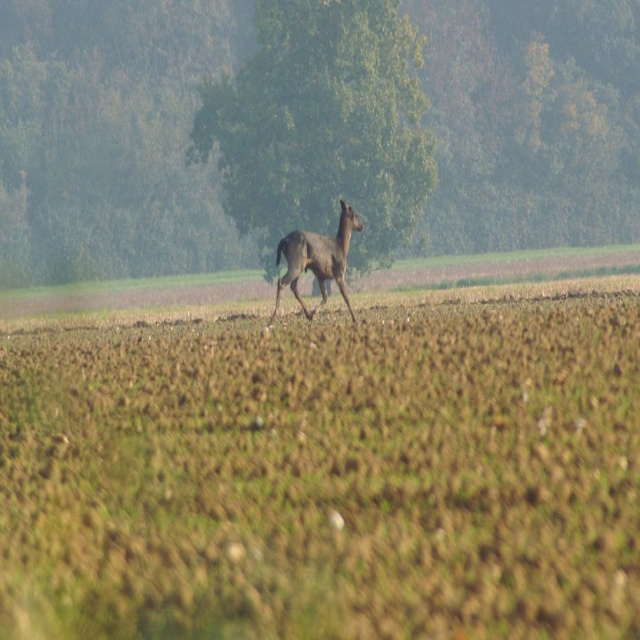Deer: (272, 199, 362, 317)
